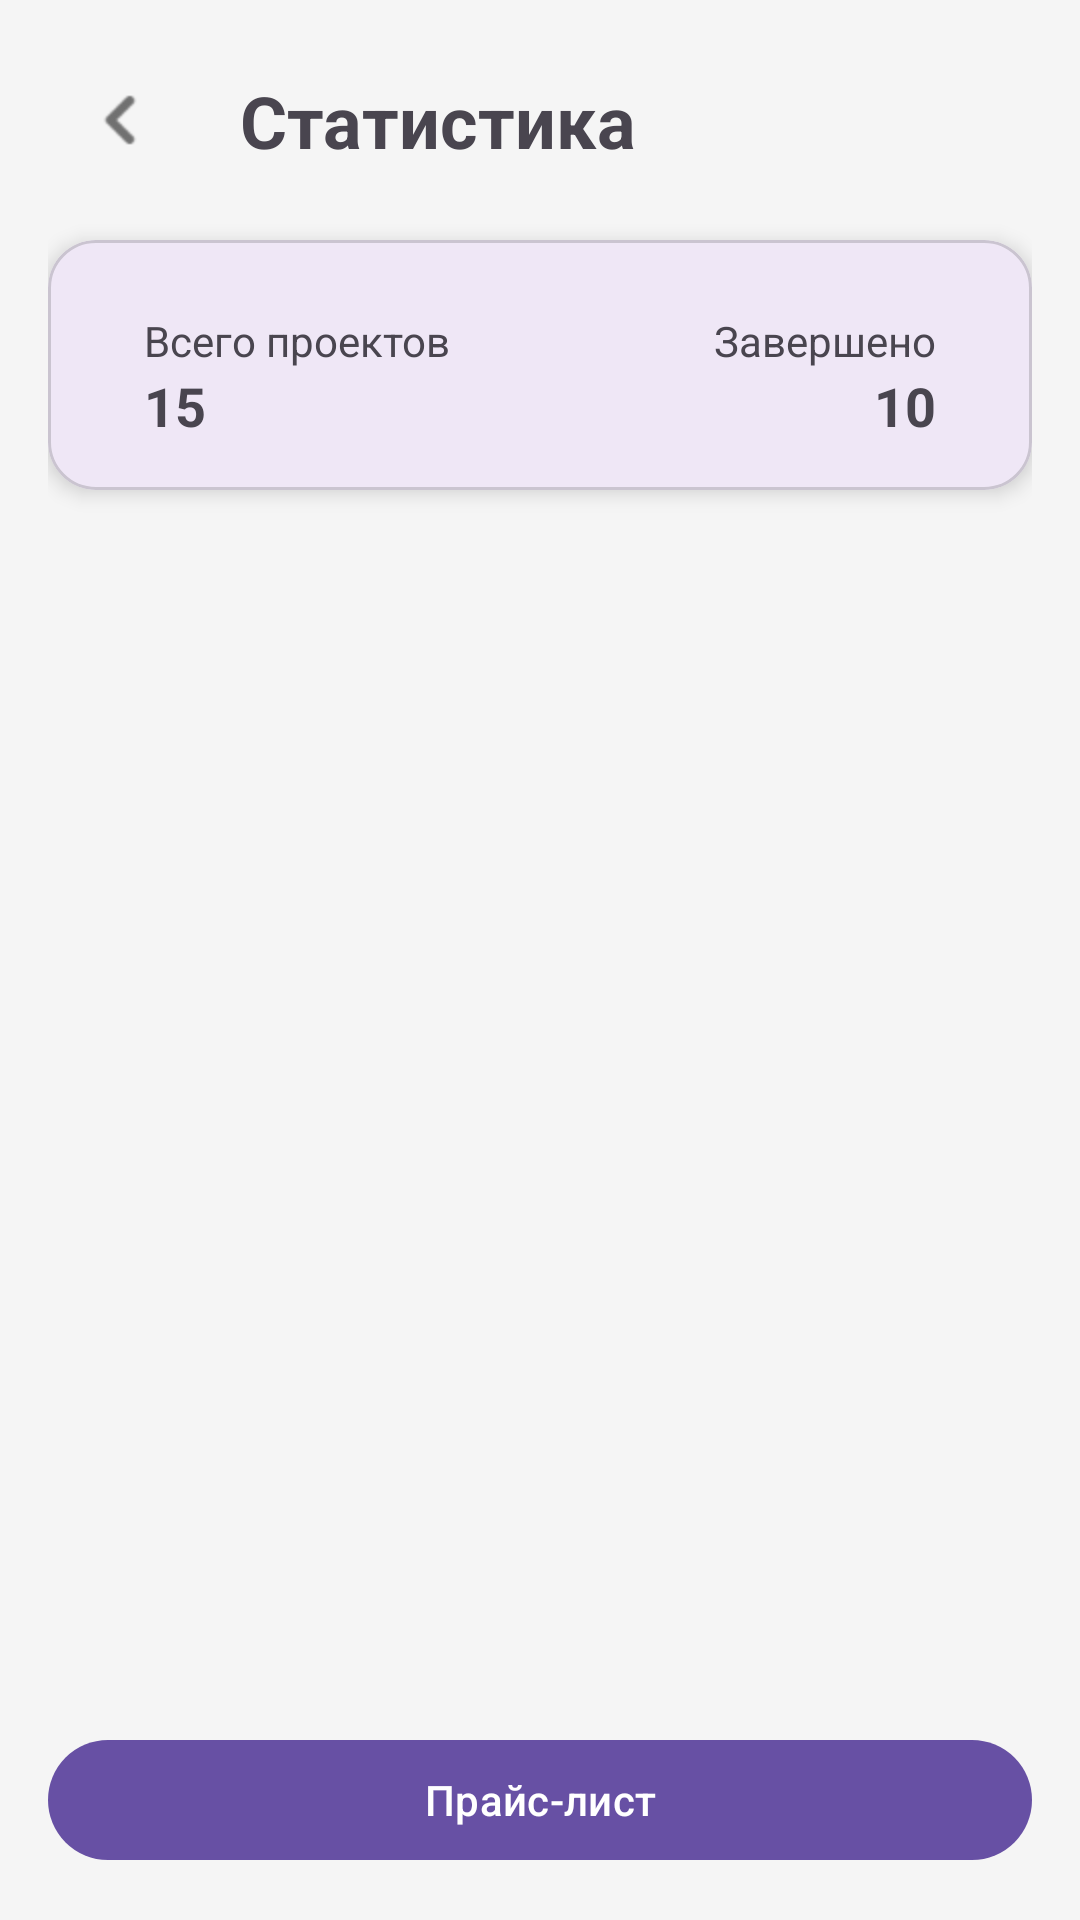

Named icons in this screenshot (1080x1920) and their centers, [x,y]:
arrow back: [120,120]
